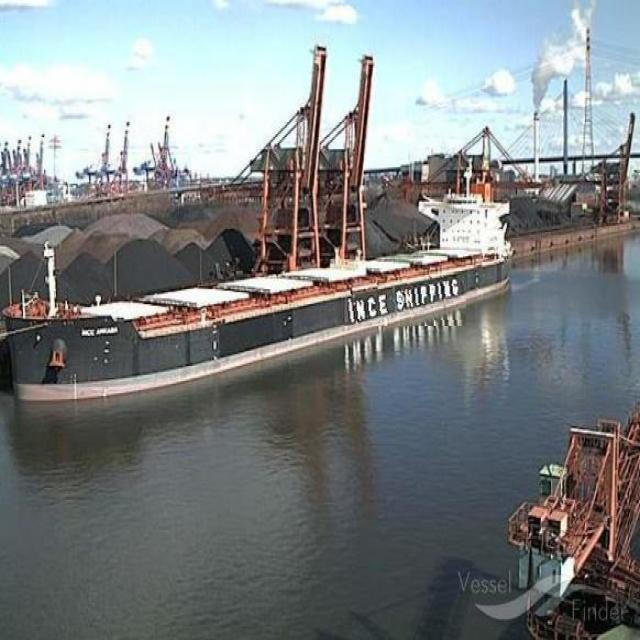OCR: (338, 272, 466, 326)
